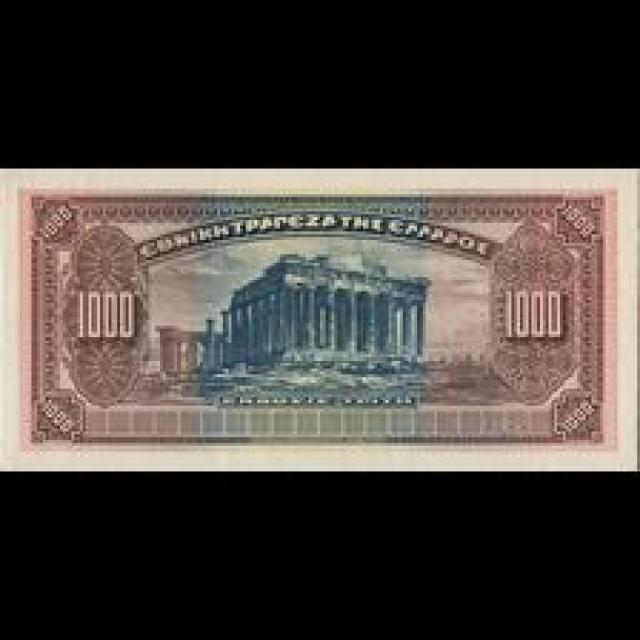banknote: (0, 169, 628, 470), (491, 285, 572, 350), (70, 282, 144, 350), (542, 385, 604, 441), (32, 387, 88, 444), (30, 191, 84, 250), (550, 194, 598, 255)
